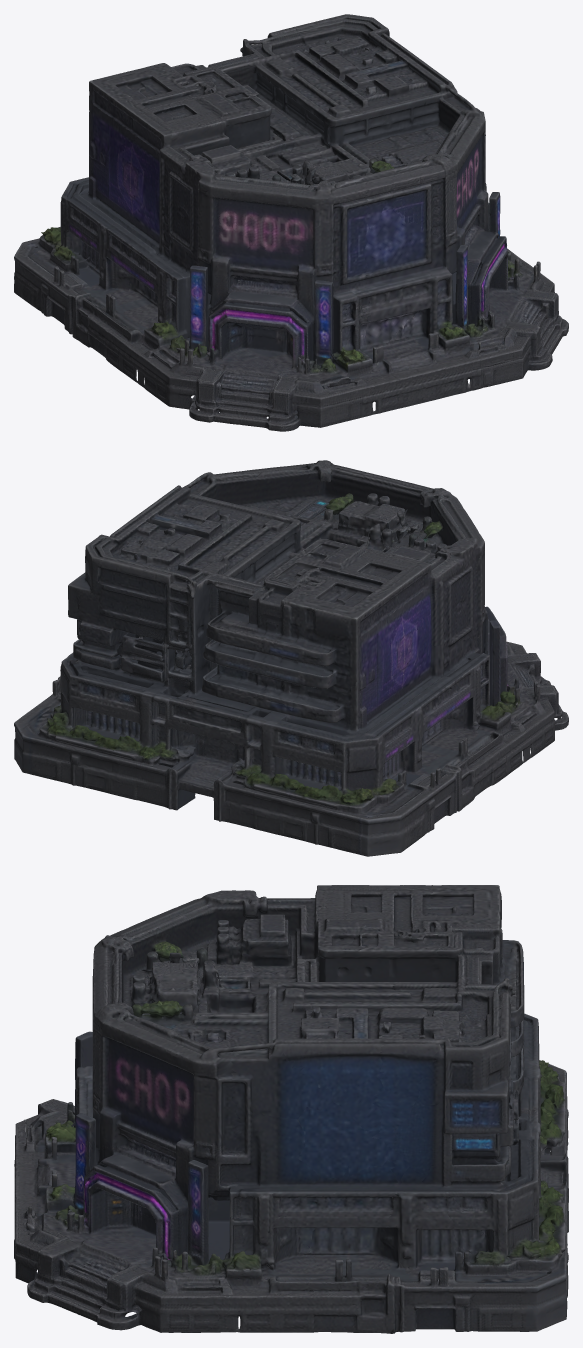
File: S12_shop.glb
The picture shows the model from 3 angles, top to bottom: view 1: azimuth 30°, elevation 25°; view 2: azimuth 150°, elevation 25°; view 3: azimuth 270°, elevation 25°; orthographic projection. The views are drawn at different scales.
Visible parts, largest first — view 1: Mesh_0.002; view 2: Mesh_0.002; view 3: Mesh_0.002.
Boxes of the visible parts, x1,y1,x2,y2 form: Mesh_0.002: (14,14,568,431); Mesh_0.002: (14,460,568,856); Mesh_0.002: (14,885,568,1333).
Size of the model in its own units: 1.87 by 0.9823 by 1.9.
Materials: 1 (1 with a texture image).
